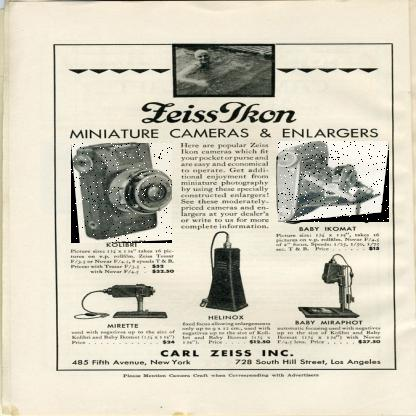Camera: (72, 144, 174, 245), (279, 142, 391, 224)
